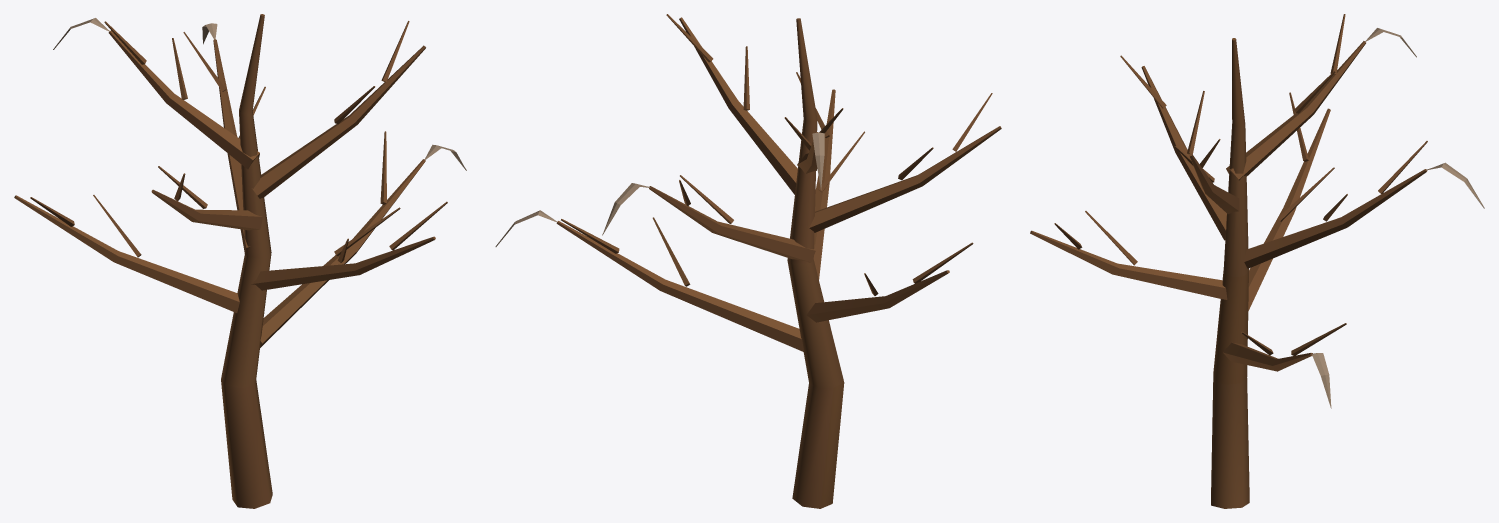
Rendered from crop_olive_tree_withered.glb.
3 views of the same model, side by side, from view 1: azimuth 30°, elevation 25°; view 2: azimuth 150°, elevation 25°; view 3: azimuth 270°, elevation 25° (orthographic). The views are drawn at different scales.
Visible parts, largest first — view 1: olive_b_0, olive_last_leaf_0; view 2: olive_b_0, olive_last_leaf_0; view 3: olive_b_0, olive_last_leaf_0.
Part boxes in pixels (x1,y1,x2,y2): olive_b_0: (14,14,447,508); olive_last_leaf_0: (53,18,466,170); olive_b_0: (556,14,1001,508); olive_last_leaf_0: (495,132,824,246); olive_b_0: (1030,14,1427,508); olive_last_leaf_0: (1311,28,1484,408).
Size of the model in its own units: 1.14 by 1.14 by 0.9999.
